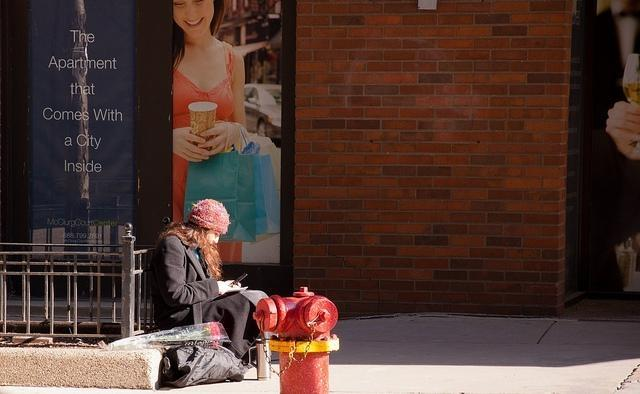car: (242, 83, 282, 139)
